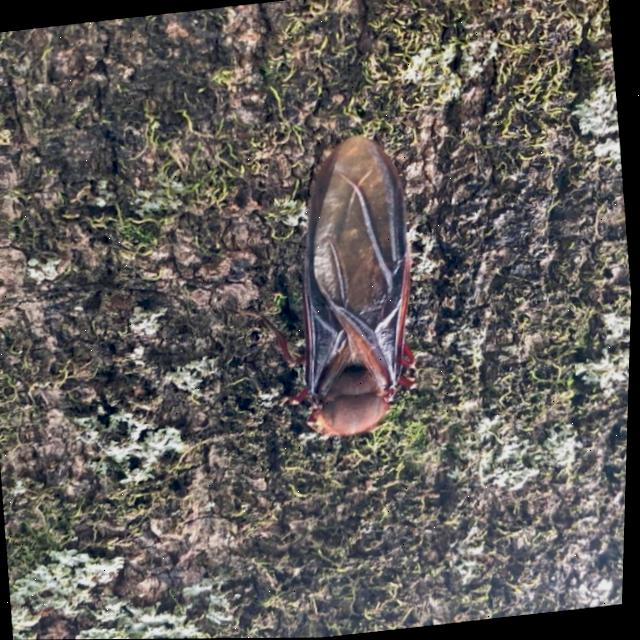Alive-Female-Alate: (216, 129, 437, 449)
